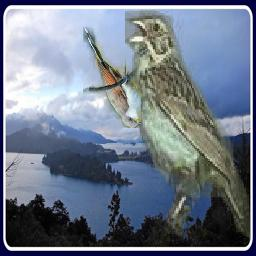Cuckoo: (83, 28, 141, 129)
Sparrow: (126, 2, 251, 245)
